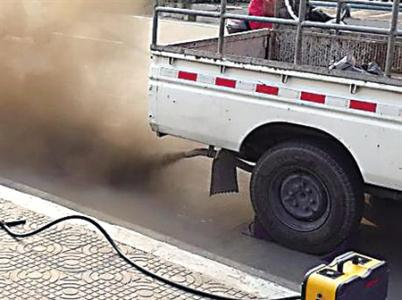smoke: (41, 136, 183, 191)
